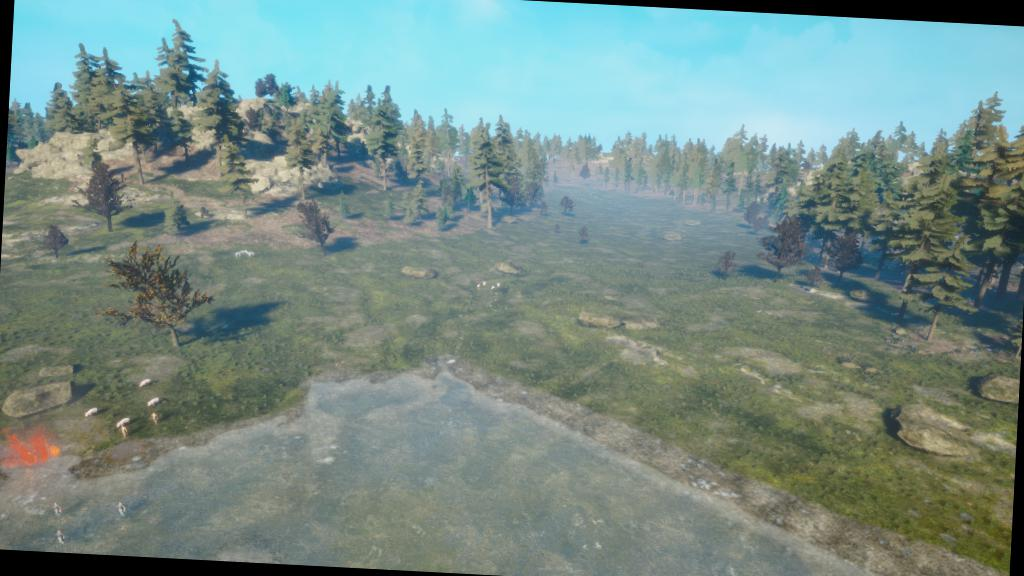Fire: (0, 423, 71, 476)
human: (115, 500, 130, 524), (51, 527, 69, 546), (52, 500, 66, 520), (118, 422, 132, 440), (148, 411, 161, 428)
pig: (115, 416, 132, 430), (84, 406, 100, 418), (146, 396, 161, 408), (138, 378, 152, 390)
zebra: (232, 250, 242, 259), (246, 251, 256, 258), (238, 249, 248, 255)
